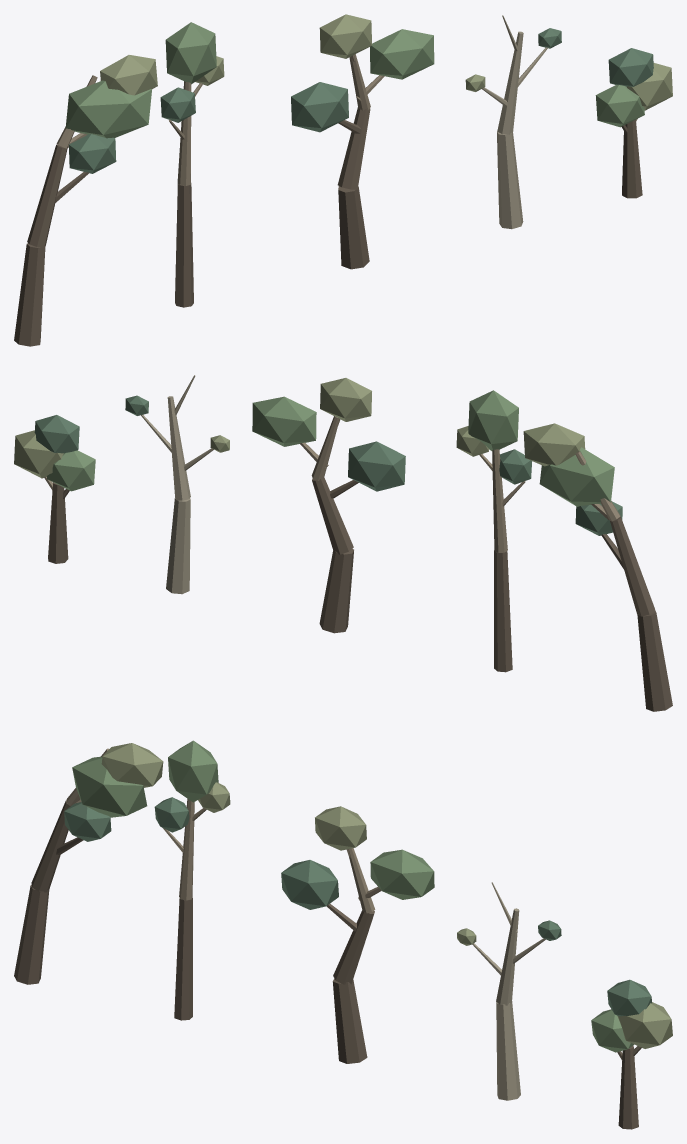
Rendered from dream_tree_kit_01.glb.
3 renders of one model, top to bottom at view 1: azimuth 30°, elevation 25°; view 2: azimuth 150°, elevation 25°; view 3: azimuth 330°, elevation 25°, orthographic.
Visible parts, largest first — view 1: DRT_Windswept_01_Leaf_Mass_A, DRT_Crooked_01_Leaf_Right, DRT_TallThin_01_Leaf_Top_A, DRT_Windswept_01_Trunk_A, DRT_Crooked_01_Leaf_Left, DRT_TallThin_01_Trunk_A, DRT_Crooked_01_Trunk_A, DRT_DeadSparse_01_Trunk_A, DRT_Crooked_01_Leaf_Top, DRT_Windswept_01_Leaf_Mass_B, DRT_Windswept_01_Trunk_B, DRT_SmallBushy_01_Leaf_A (+9 smaller); view 2: DRT_Windswept_01_Leaf_Mass_A, DRT_Crooked_01_Leaf_Right, DRT_TallThin_01_Leaf_Top_A, DRT_Windswept_01_Trunk_A, DRT_Crooked_01_Leaf_Left, DRT_Crooked_01_Trunk_A, DRT_Windswept_01_Leaf_Mass_B, DRT_TallThin_01_Trunk_A, DRT_DeadSparse_01_Trunk_A, DRT_Crooked_01_Leaf_Top, DRT_Windswept_01_Trunk_B, DRT_SmallBushy_01_Leaf_A (+10 smaller); view 3: DRT_Windswept_01_Leaf_Mass_A, DRT_Crooked_01_Leaf_Right, DRT_Windswept_01_Trunk_A, DRT_TallThin_01_Leaf_Top_A, DRT_Crooked_01_Leaf_Left, DRT_Crooked_01_Trunk_A, DRT_Windswept_01_Leaf_Mass_B, DRT_TallThin_01_Trunk_A, DRT_DeadSparse_01_Trunk_A, DRT_Crooked_01_Leaf_Top, DRT_SmallBushy_01_Leaf_B, DRT_Windswept_01_Leaf_Mass_C (+10 smaller).
Boxes of the visible parts, left/top/right/bottom form: DRT_Windswept_01_Leaf_Mass_A: left=65, top=80, right=151, bottom=138; DRT_Crooked_01_Leaf_Right: left=370, top=29, right=434, bottom=79; DRT_TallThin_01_Leaf_Top_A: left=165, top=22, right=216, bottom=84; DRT_Windswept_01_Trunk_A: left=14, top=243, right=45, bottom=346; DRT_Crooked_01_Leaf_Left: left=291, top=82, right=348, bottom=132; DRT_TallThin_01_Trunk_A: left=175, top=183, right=193, bottom=307; DRT_Crooked_01_Trunk_A: left=338, top=186, right=369, bottom=269; DRT_DeadSparse_01_Trunk_A: left=497, top=131, right=523, bottom=229; DRT_Crooked_01_Leaf_Top: left=319, top=14, right=371, bottom=58; DRT_Windswept_01_Leaf_Mass_B: left=100, top=55, right=157, bottom=95; DRT_Windswept_01_Trunk_B: left=27, top=144, right=67, bottom=247; DRT_SmallBushy_01_Leaf_A: left=595, top=85, right=644, bottom=127; DRT_Windswept_01_Leaf_Mass_A: left=539, top=447, right=614, bottom=506; DRT_Crooked_01_Leaf_Right: left=252, top=396, right=316, bottom=446; DRT_TallThin_01_Leaf_Top_A: left=468, top=390, right=518, bottom=450; DRT_Windswept_01_Trunk_A: left=637, top=611, right=672, bottom=711; DRT_Crooked_01_Leaf_Left: left=348, top=441, right=405, bottom=491; DRT_Crooked_01_Trunk_A: left=319, top=549, right=353, bottom=633; DRT_Windswept_01_Leaf_Mass_B: left=523, top=423, right=585, bottom=466; DRT_TallThin_01_Trunk_A: left=494, top=550, right=512, bottom=672; DRT_DeadSparse_01_Trunk_A: left=166, top=498, right=190, bottom=594; DRT_Crooked_01_Leaf_Top: left=320, top=378, right=371, bottom=421; DRT_Windswept_01_Trunk_B: left=610, top=516, right=655, bottom=616; DRT_SmallBushy_01_Leaf_A: left=47, top=450, right=95, bottom=491; DRT_Windswept_01_Leaf_Mass_A: left=72, top=756, right=147, bottom=817; DRT_Crooked_01_Leaf_Right: left=370, top=849, right=434, bottom=899; DRT_Windswept_01_Trunk_A: left=14, top=885, right=49, bottom=984; DRT_TallThin_01_Leaf_Top_A: left=168, top=740, right=218, bottom=802; DRT_Crooked_01_Leaf_Left: left=281, top=860, right=338, bottom=909; DRT_Crooked_01_Trunk_A: left=332, top=978, right=367, bottom=1063; DRT_Windswept_01_Leaf_Mass_B: left=101, top=743, right=163, bottom=787; DRT_TallThin_01_Trunk_A: left=174, top=897, right=192, bottom=1020; DRT_DeadSparse_01_Trunk_A: left=496, top=1001, right=520, bottom=1100; DRT_Crooked_01_Leaf_Top: left=315, top=806, right=366, bottom=850; DRT_SmallBushy_01_Leaf_B: left=617, top=1002, right=672, bottom=1048; DRT_Windswept_01_Leaf_Mass_C: left=64, top=802, right=111, bottom=841.
Bounding box in the file's own units: 9.24 × 3.76 × 0.7104.
